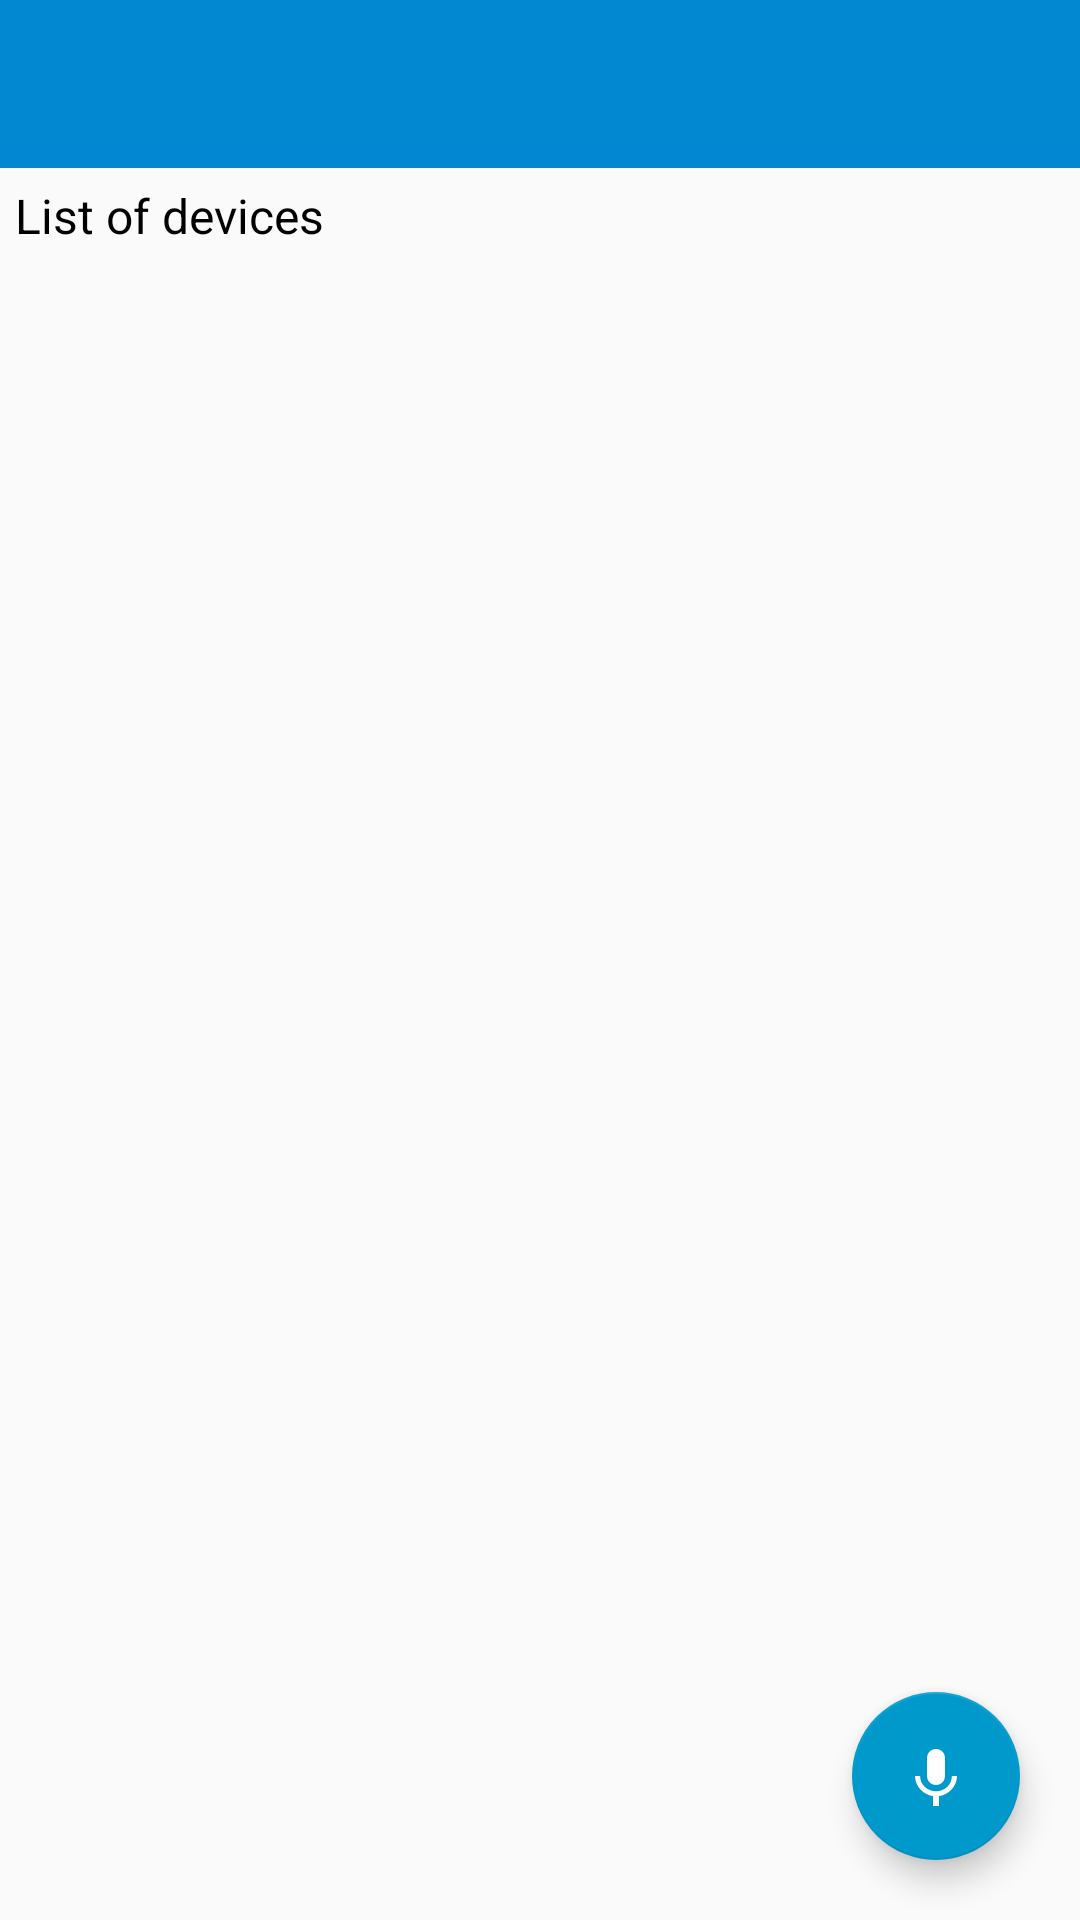

Named icons in this screenshot (1080px x 1920px) and their bounding boxes, (x1, y1, x2, y2):
talk: (852, 1692, 1020, 1860)
